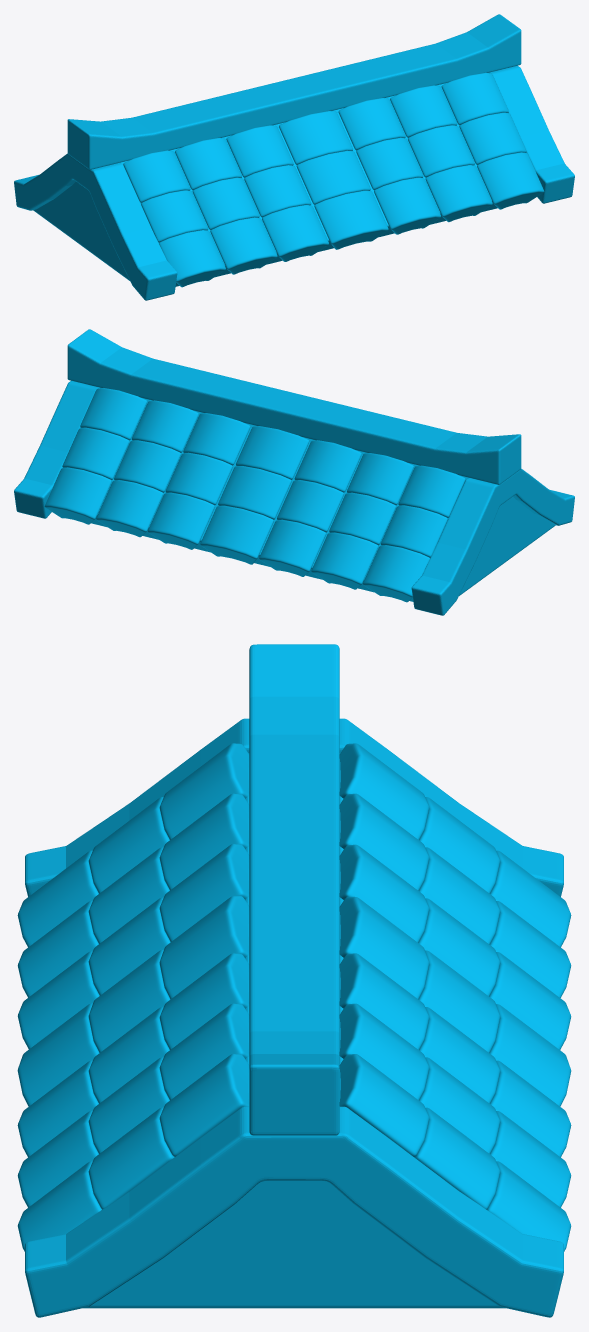
File: SM_Stone_Roof_06.fbx
3 views of the same model, one above another, from view 1: azimuth 30°, elevation 25°; view 2: azimuth 150°, elevation 25°; view 3: azimuth 270°, elevation 25° (orthographic). The views are drawn at different scales.
Visible parts, largest first — view 1: SM_Stone_Roof_06; view 2: SM_Stone_Roof_06; view 3: SM_Stone_Roof_06.
Part boxes in pixels (bbox=[...]): SM_Stone_Roof_06: bbox=[14, 14, 574, 300]; SM_Stone_Roof_06: bbox=[14, 329, 574, 615]; SM_Stone_Roof_06: bbox=[17, 644, 571, 1317].
Size of the model in its own units: 5.05 by 1.45 by 2.8.
